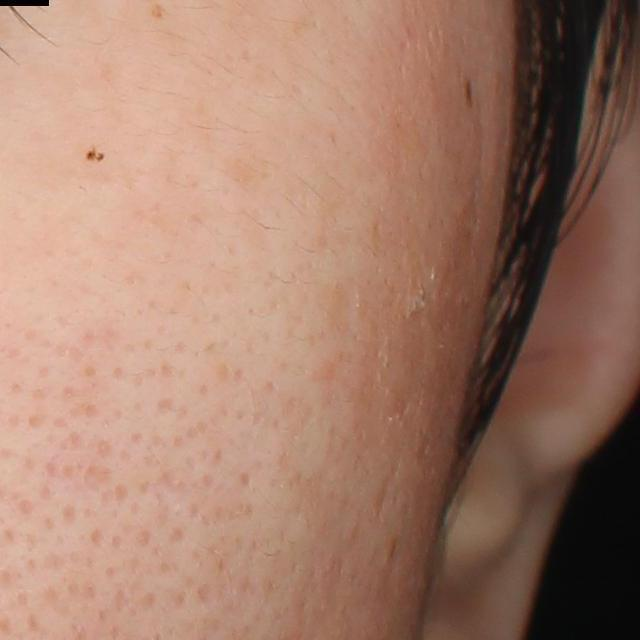melasma: (149, 2, 171, 18)
nevus: (79, 139, 112, 168), (463, 77, 477, 117)
